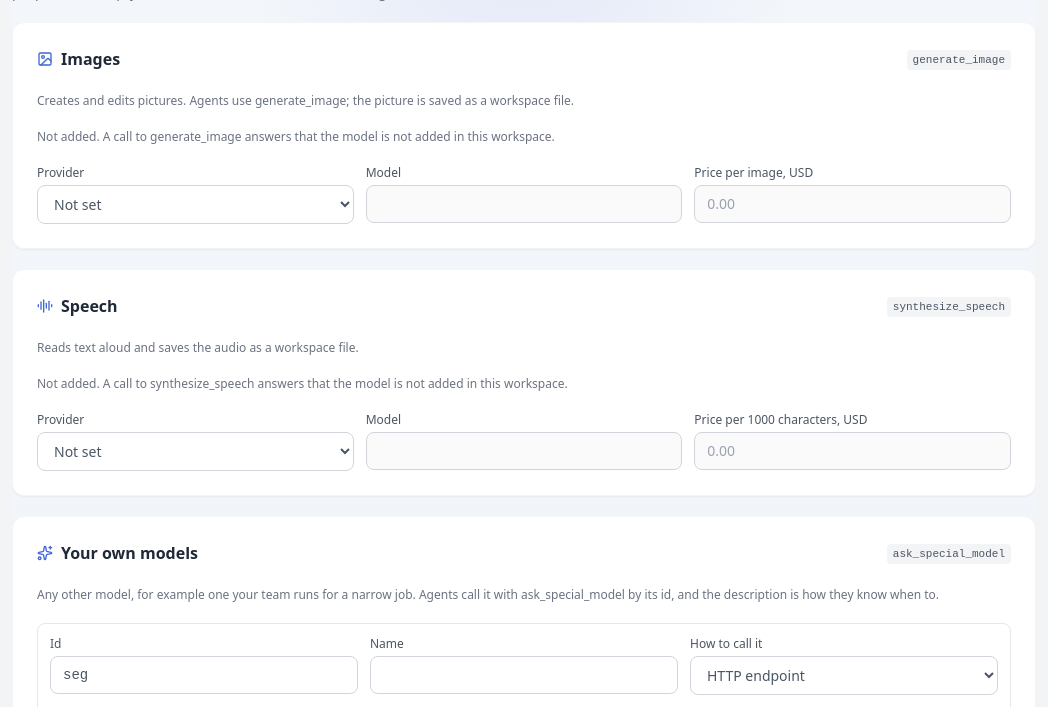
Test: WorkspaceSpecialModels › checks the connection of the model the form holds, saved or not
This screenshot has width=1048, height=707.
Expected: the text with test id "special-image-missing" is shown, x1=37 y1=128 x2=555 y2=145
Select "OpenAI" in the 2nd dropdown labelled "Provider" at (195, 452), box x1=37 y1=432 x2=354 y2=471
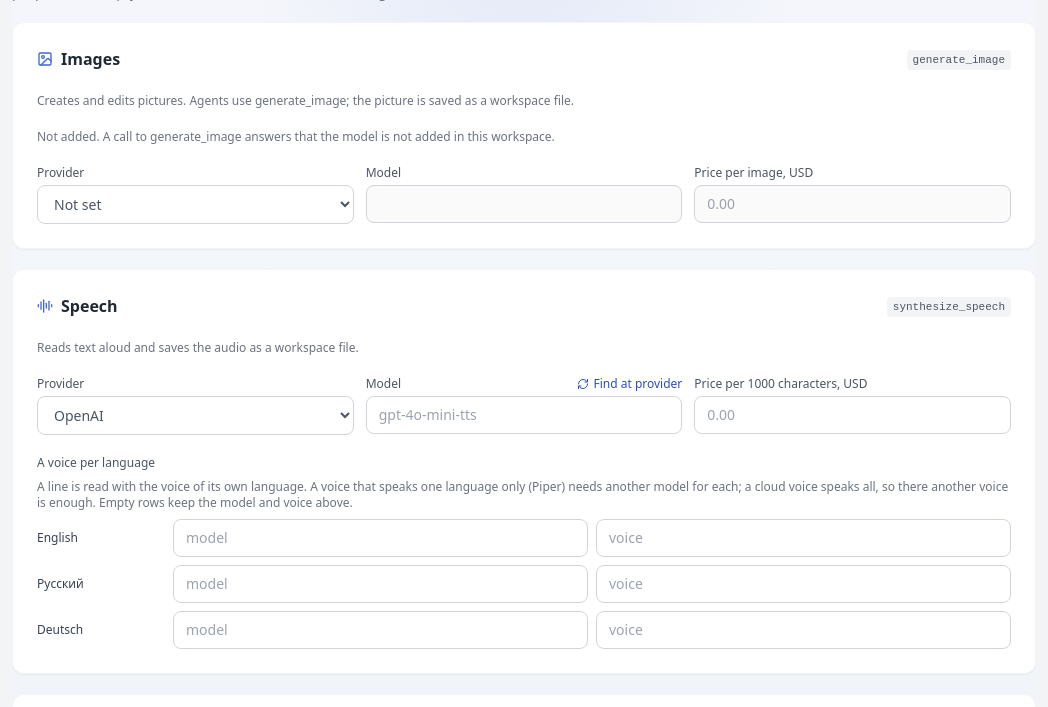
Type "tts-9" into the field labelled "Model" below "Price per 1000 characters, USD" at (524, 415), box x1=366 y1=396 x2=682 y2=434
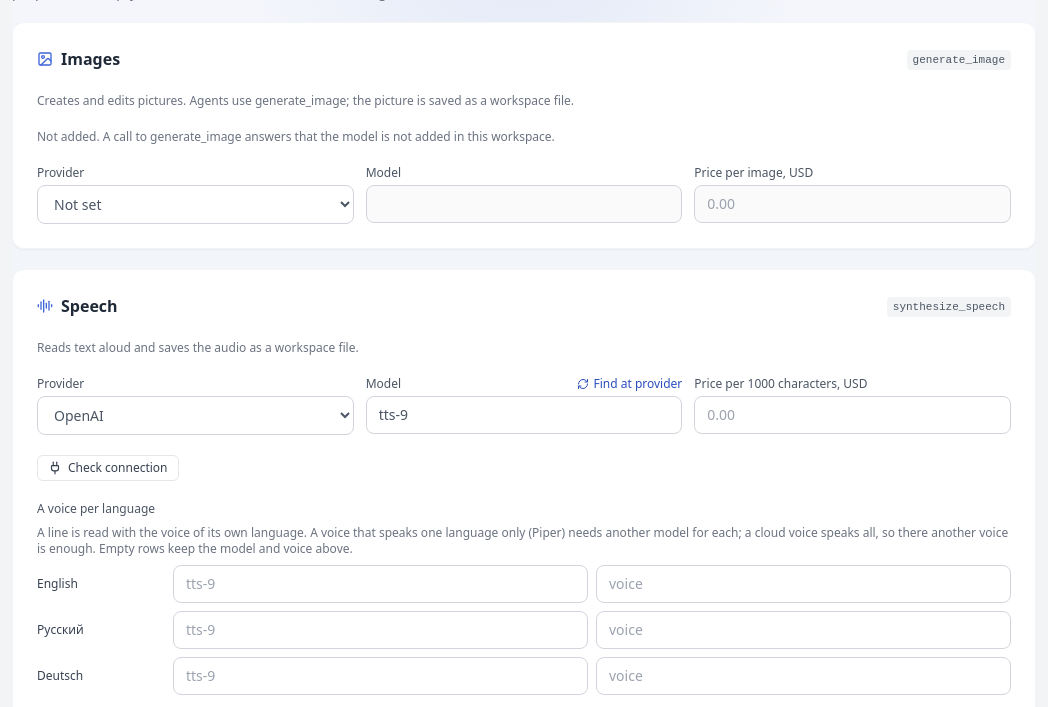
Click the button with test id "special-speech-check" at (108, 468), box x1=37 y1=455 x2=178 y2=481
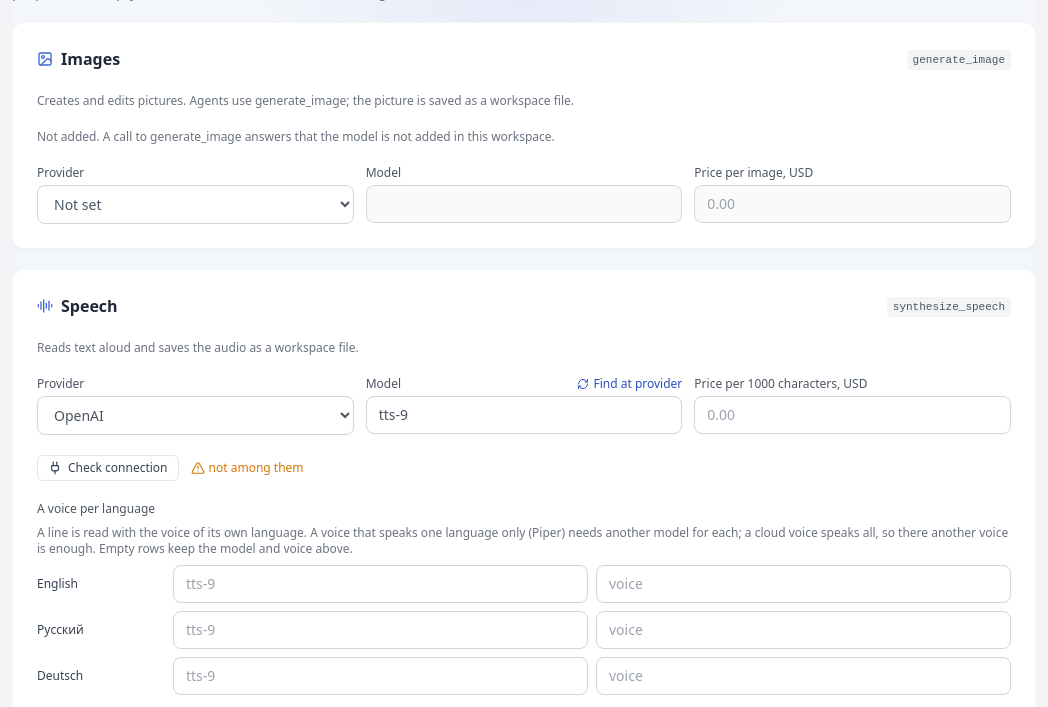
Now the element with test id "special-speech-check-result" reads "not among them", box x1=208 y1=459 x2=304 y2=476
// Another model: the result was for the first one.
Replace the text in the field labelled "Model" below "Price per 1000 characters, USD" with "tts-1" at (524, 415), box x1=366 y1=396 x2=682 y2=434
(page scrolled)
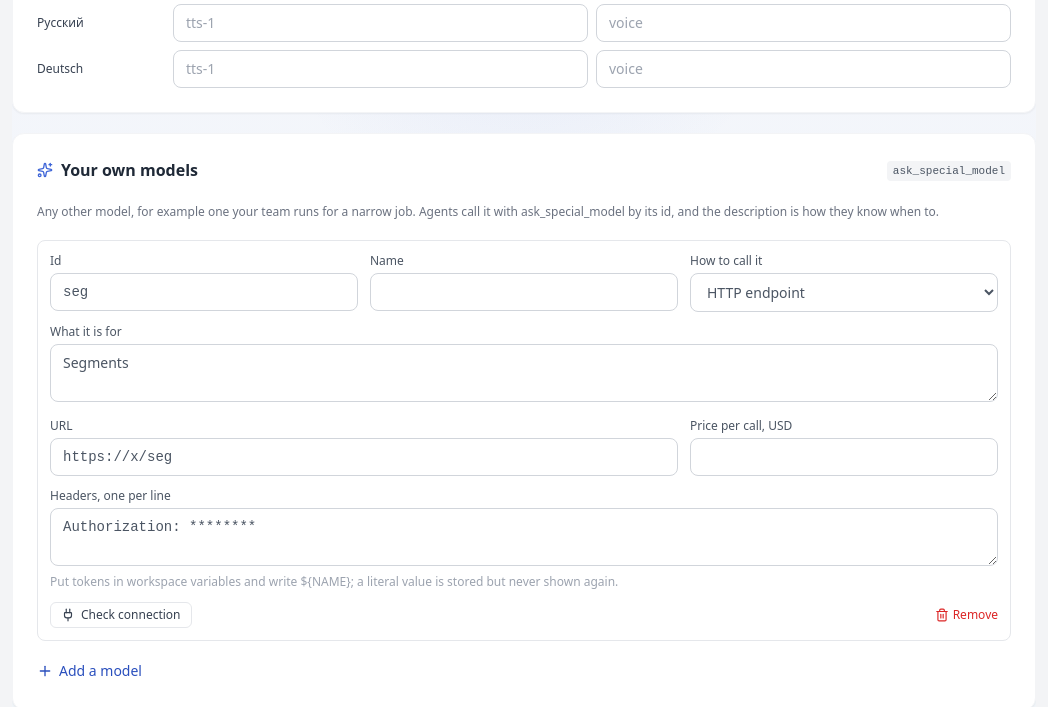
Now the element with test id "special-speech-check-result" is gone
Click the button with test id "special-custom-0-check" at (121, 615), box x1=50 y1=602 x2=192 y2=628
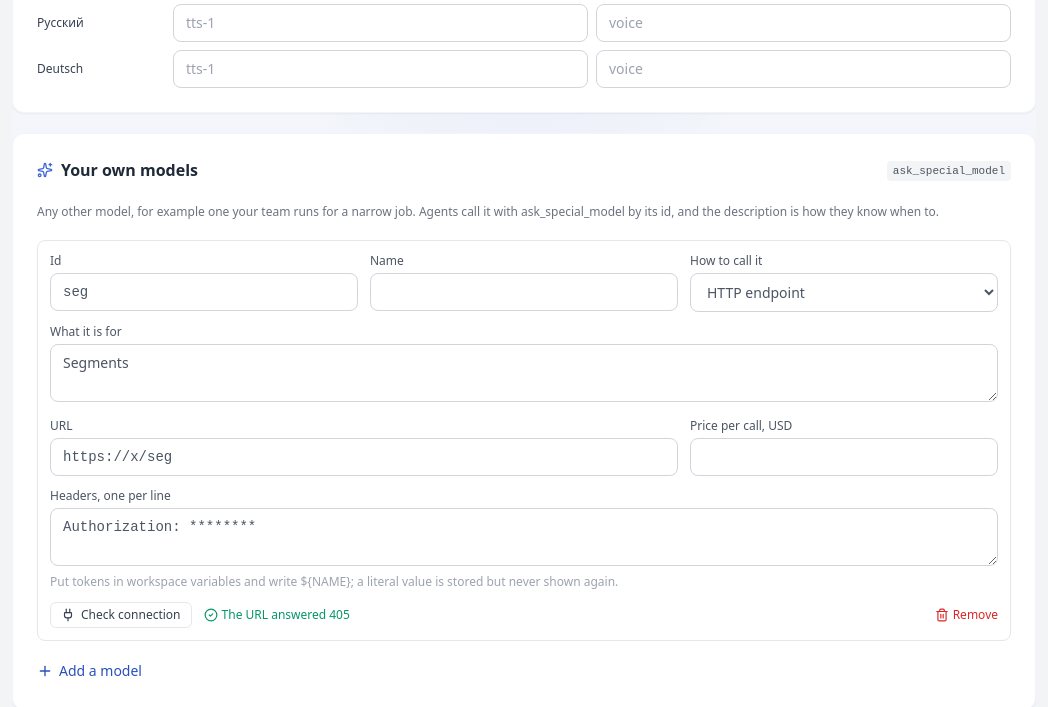
Now the element with test id "special-custom-0-check-result" shows "405", box x1=222 y1=606 x2=350 y2=623
